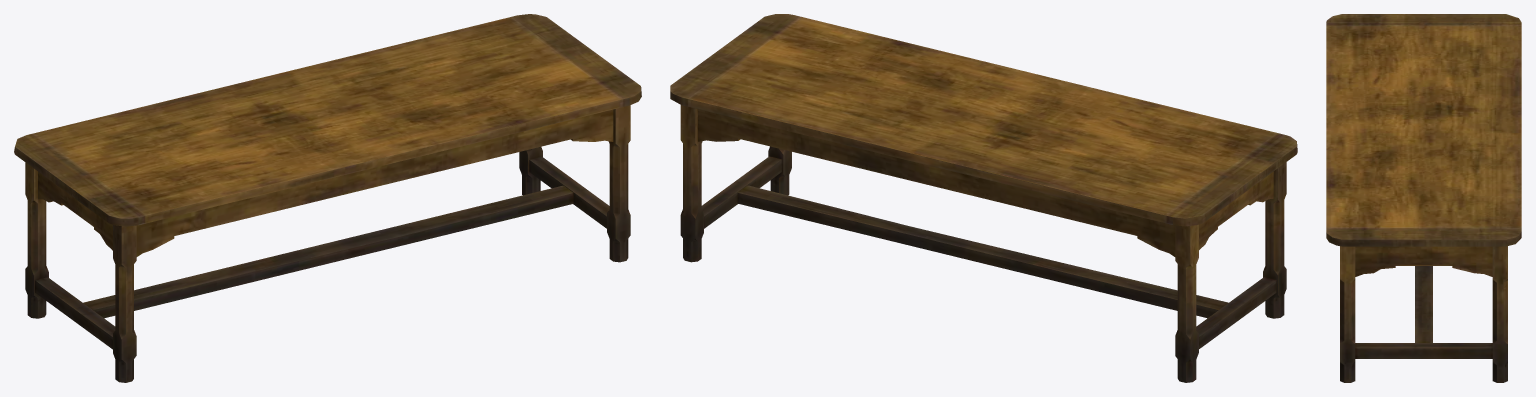
File: WoodenTable_01.glb
The picture shows the model from 3 angles, left to right: view 1: azimuth 30°, elevation 25°; view 2: azimuth 150°, elevation 25°; view 3: azimuth 270°, elevation 25°; orthographic projection. The views are drawn at different scales.
Visible parts, largest first — view 1: WoodenTable_01; view 2: WoodenTable_01; view 3: WoodenTable_01.
Boxes of the visible parts, x1,y1,x2,y2 form: WoodenTable_01: [14, 14, 641, 382]; WoodenTable_01: [670, 14, 1297, 382]; WoodenTable_01: [1326, 14, 1521, 382].
Size of the model in its own units: 1.79 by 0.5489 by 0.6571.
1 material, 1 textured.
